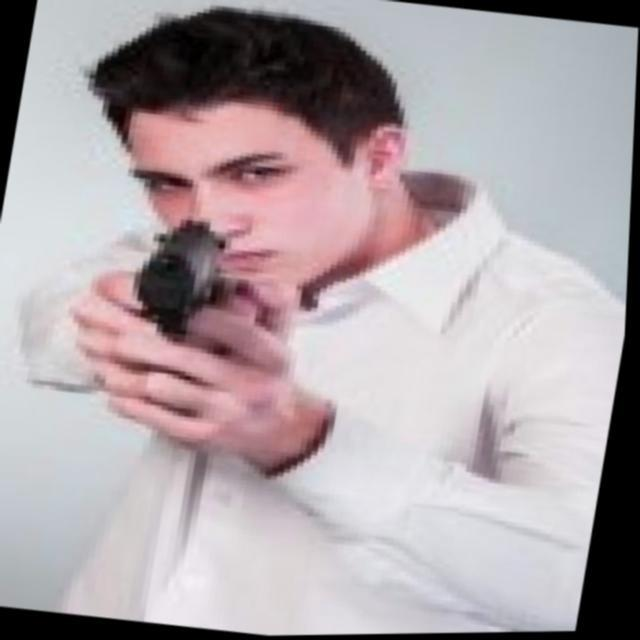weapon: (127, 220, 250, 358)
